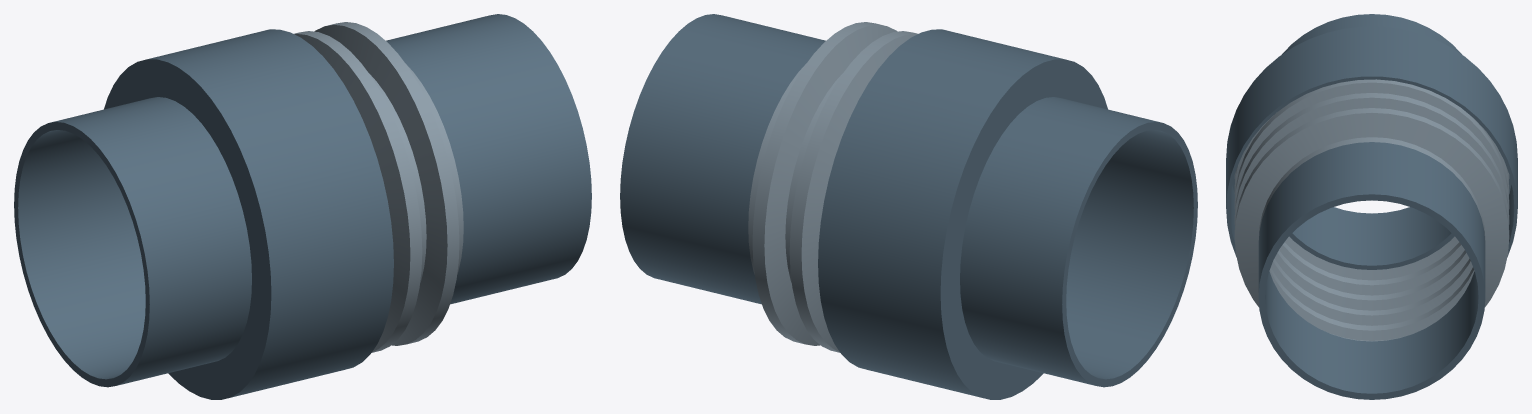
Rendered from silf-dn125-L250-D133-k-o167.glb.
The picture shows the model from 3 angles, left to right: view 1: azimuth 30°, elevation 25°; view 2: azimuth 150°, elevation 25°; view 3: azimuth 270°, elevation 25°; orthographic projection. The views are drawn at different scales.
Parts seen in each view (by area): view 1: osnovanie_kozhuh_1, patrubok_1, patrubok_2, prokladka_silfon_1; view 2: osnovanie_kozhuh_1, patrubok_1, patrubok_2, prokladka_silfon_1; view 3: prokladka_silfon_1, patrubok_2, osnovanie_kozhuh_1, patrubok_1.
Boxes of the visible parts, x1=… form: osnovanie_kozhuh_1: x1=104, y1=29, x2=393, y2=399; patrubok_1: x1=14, y1=97, x2=251, y2=387; patrubok_2: x1=386, y1=14, x2=591, y2=304; prokladka_silfon_1: x1=294, y1=22, x2=463, y2=352; osnovanie_kozhuh_1: x1=818, y1=29, x2=1107, y2=399; patrubok_1: x1=960, y1=97, x2=1197, y2=387; patrubok_2: x1=620, y1=14, x2=825, y2=304; prokladka_silfon_1: x1=748, y1=22, x2=917, y2=352; prokladka_silfon_1: x1=1234, y1=79, x2=1509, y2=341; patrubok_2: x1=1258, y1=142, x2=1485, y2=399; osnovanie_kozhuh_1: x1=1226, y1=26, x2=1517, y2=256; patrubok_1: x1=1282, y1=14, x2=1461, y2=269.
Bounding box in the file's own units: 250 × 171 × 171.
